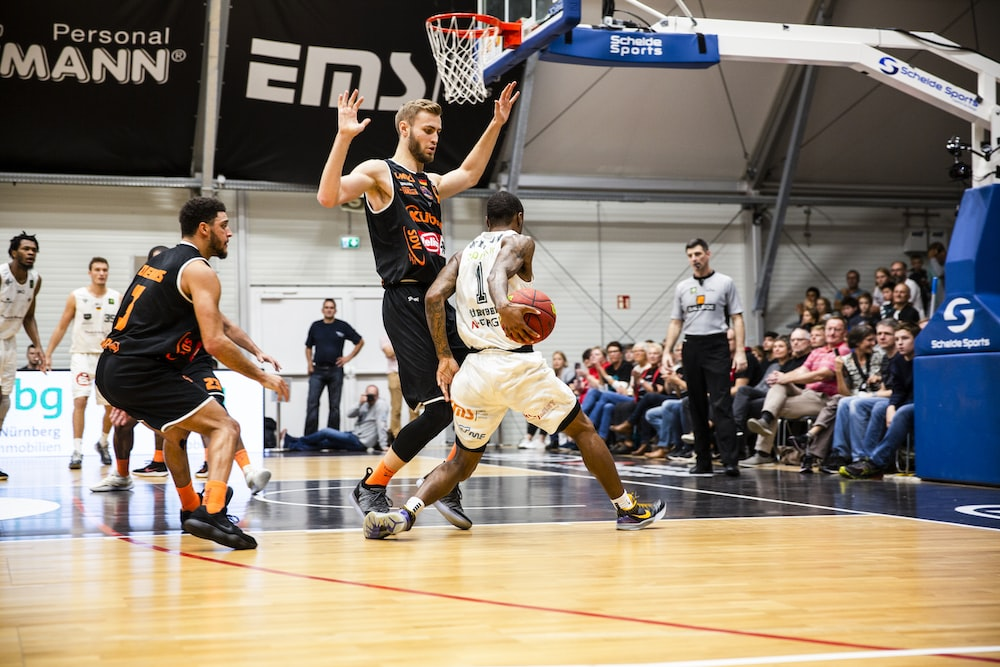b_ball: (497, 280, 557, 347)
face: (174, 192, 248, 261), (390, 101, 450, 162), (678, 230, 729, 277), (10, 219, 48, 277), (84, 257, 131, 289)
player: (300, 74, 510, 536), (427, 194, 667, 527), (92, 194, 301, 550), (3, 204, 58, 490), (66, 227, 119, 479)
referee: (664, 222, 772, 491)
